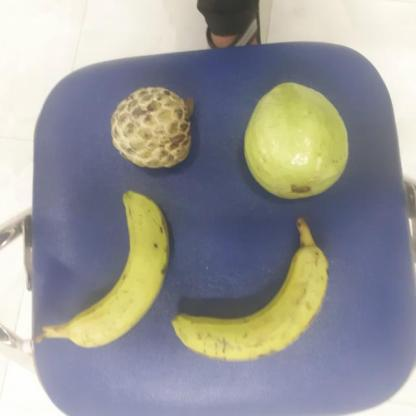annona: (109, 87, 197, 168)
banana: (176, 244, 337, 361), (64, 191, 174, 350)
guava: (246, 84, 355, 199)
